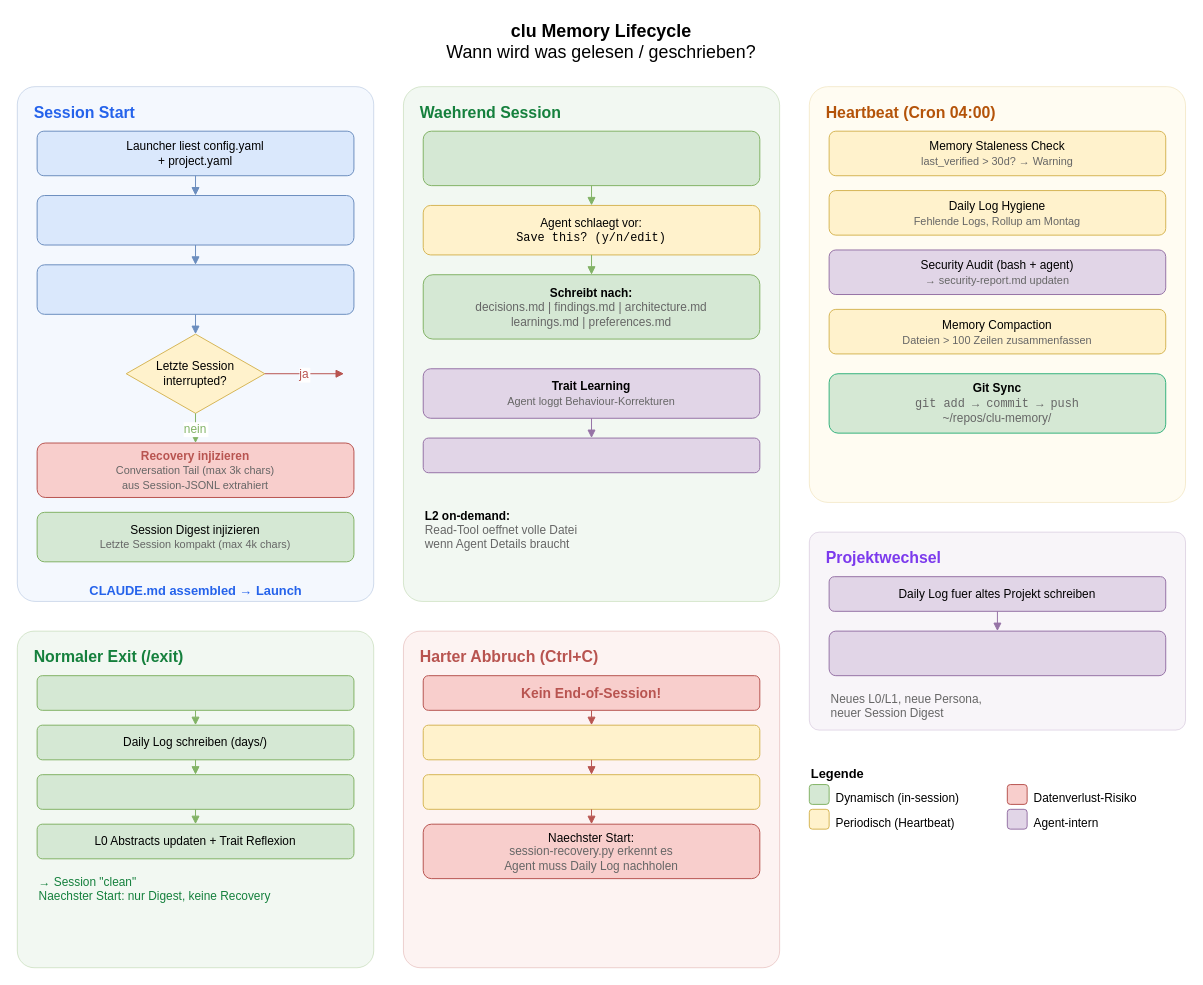
The diagram is 1203 pixels wide and 985 high, and some of its shapes have lost their labels. The centre of each missing label's shape, as x and y in pixels:
"Budget pruefen > 39k chars? Fallback auf L0-only" belongs at (x=195, y=289).
"End-of-Session Protocol" belongs at (x=195, y=692).
"Kein Daily Log geschrieben" belongs at (x=591, y=742).
"L0/L1 Memory laden head -50 pro Datei, Abstracts aus Frontmatter" belongs at (x=195, y=220).
"Memory Updates vorschlagen + bestaetigen" belongs at (x=195, y=791).
"Neues Projekt: CLAUDE.md neu assemblieren + laden" belongs at (x=997, y=653).
"Semi-Automatic Protocol Agent erkennt Decision / Finding / Op-Knowledge" belongs at (x=591, y=158).
"Session JSONL bleibt erhalten" belongs at (x=591, y=791).
"→ meta.md (Trait Signals)" belongs at (x=591, y=455).
